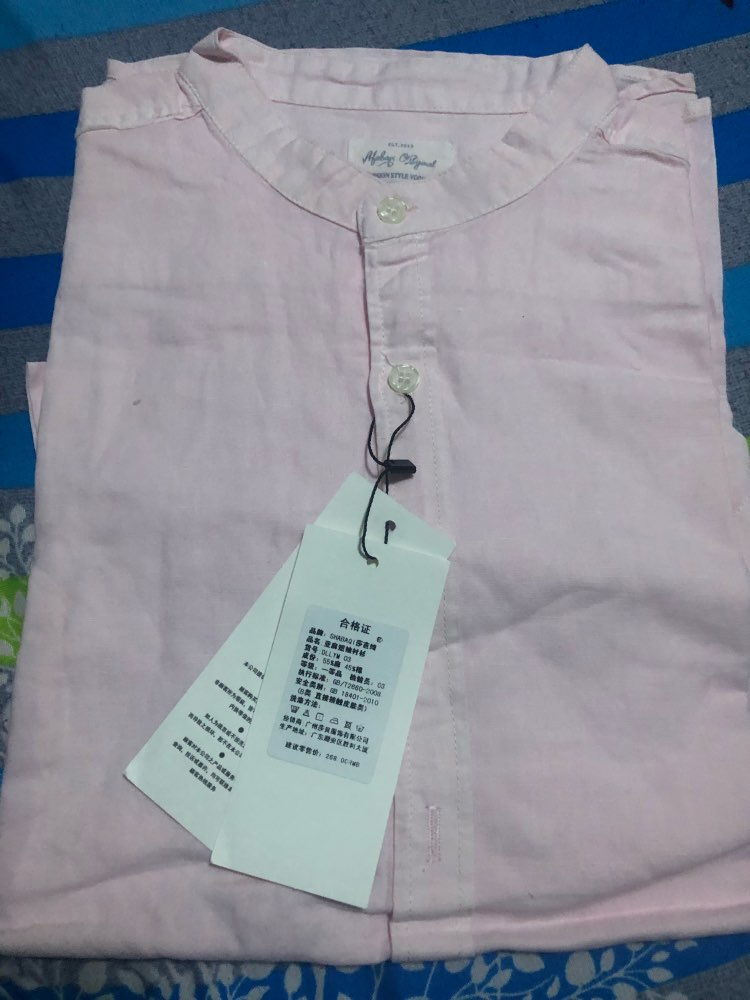shirts: (35, 33, 750, 942)
